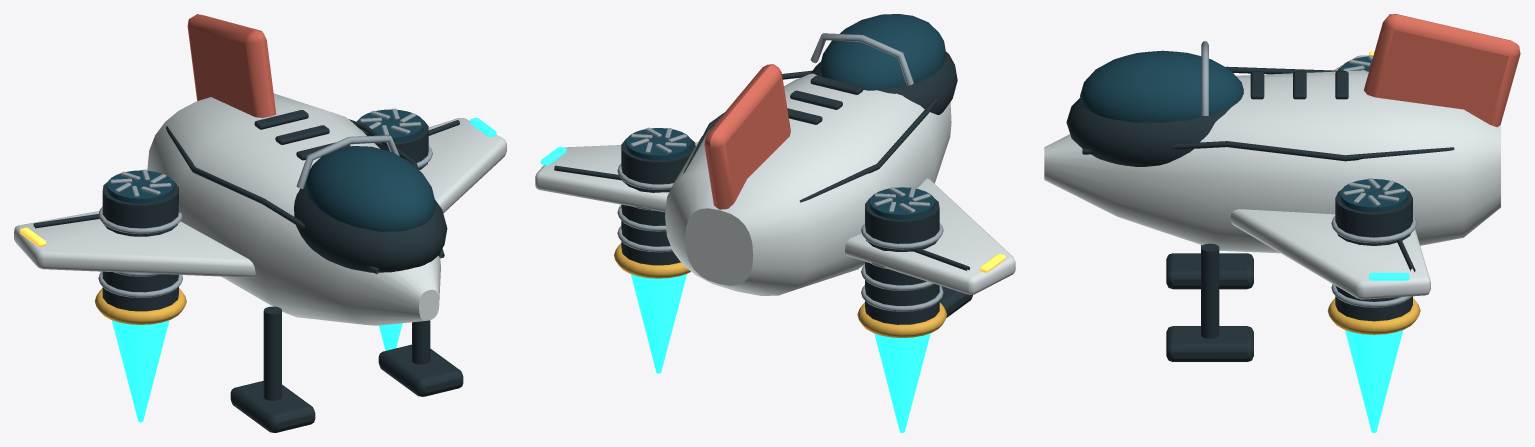
The model's file is starship.glb.
3 renders of one model, left to right at view 1: azimuth 30°, elevation 25°; view 2: azimuth 150°, elevation 25°; view 3: azimuth 270°, elevation 25°, orthographic. The views are drawn at different scales.
Visible parts, largest first — view 1: FlightHull, AileronSeam, Canopy, TailFin, CanopyFrame, ExhaustGlow, EngineRim; view 2: FlightHull, AileronSeam, Canopy, TailFin, CanopyFrame, ExhaustGlow.001, ExhaustGlow, EngineRim; view 3: FlightHull, AileronSeam, TailFin, Canopy, ExhaustGlow.001, CanopyFrame, EngineRim.
Boxes of the visible parts, x1,y1,x2,y2 form: FlightHull: (14,93,506,325); AileronSeam: (33,110,463,432); Canopy: (107,109,435,231); TailFin: (187,14,276,117); CanopyFrame: (98,108,432,297); ExhaustGlow: (111,320,169,422); EngineRim: (94,288,186,324); FlightHull: (535,73,1015,295); AileronSeam: (554,51,972,324); Canopy: (626,14,946,219); TailFin: (704,64,790,209); CanopyFrame: (617,33,943,311); ExhaustGlow.001: (631,274,686,373); ExhaustGlow: (874,333,930,432); EngineRim: (614,243,947,337); FlightHull: (1044,55,1500,299); AileronSeam: (1066,66,1454,361); TailFin: (1364,14,1520,127); Canopy: (1080,50,1407,212); ExhaustGlow.001: (1345,330,1402,432); CanopyFrame: (1201,41,1416,307); EngineRim: (1327,298,1420,334).
Bounding box in the file's own units: 3.23 × 2.32 × 2.82.
